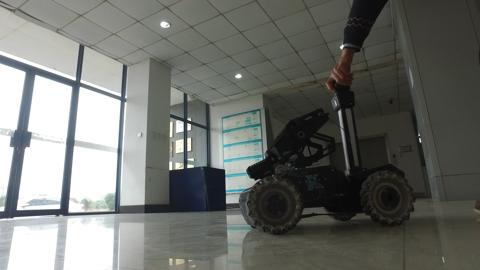chariot: (241, 71, 421, 236)
